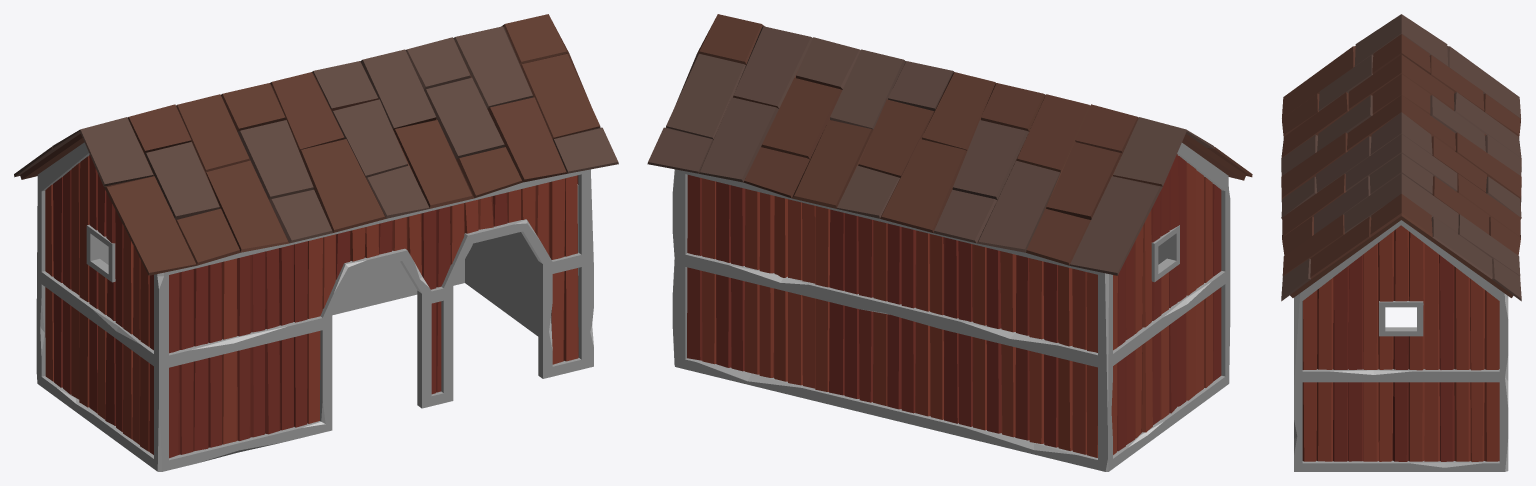
The model's file is Shed_1a.fbx.
The picture shows the model from 3 angles, left to right: view 1: azimuth 30°, elevation 25°; view 2: azimuth 150°, elevation 25°; view 3: azimuth 270°, elevation 25°; orthographic projection. The views are drawn at different scales.
Parts seen in each view (by area): view 1: Shed_1a; view 2: Shed_1a; view 3: Shed_1a.
Part boxes in pixels (left/top/right/bottom): Shed_1a: left=14, top=14, right=618, bottom=471; Shed_1a: left=647, top=14, right=1252, bottom=471; Shed_1a: left=1281, top=14, right=1521, bottom=471.
Bounding box in the file's own units: 368 × 226 × 185.
